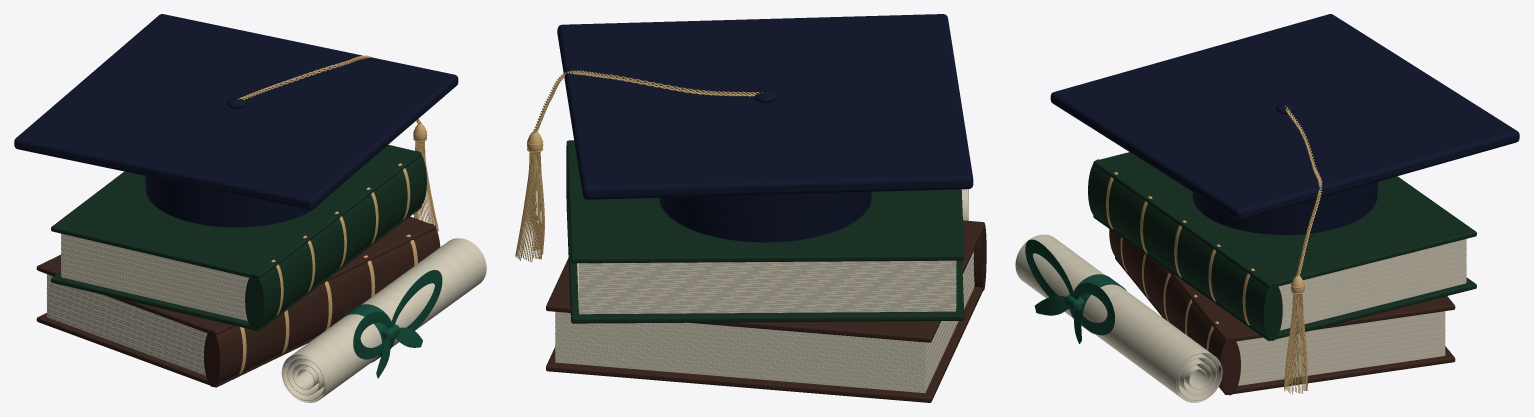
Rendered from studentLoan.glb.
The picture shows the model from 3 angles, left to right: view 1: azimuth 30°, elevation 25°; view 2: azimuth 150°, elevation 25°; view 3: azimuth 270°, elevation 25°; orthographic projection. The views are drawn at different scales.
Parts seen in each view (by area): view 1: SL-Cap-Board, SL-Book-Upper-Top-Cover, SL-Book-Lower-Spine, SL-Book-Upper-Spine, SL-Diploma-Tube, SL-Book-Upper-Pages, SL-Book-Lower-Pages, SL-Cap-Crown, SL-Book-Lower-Top-Cover, SL-Book-Upper-Bottom-Cover, SL-Book-Lower-Bottom-Cover, SL-Diploma-Coil (+3 smaller); view 2: SL-Cap-Board, SL-Book-Lower-Pages, SL-Book-Upper-Pages, SL-Book-Upper-Top-Cover, SL-Cap-Crown, SL-Book-Lower-Bottom-Cover, SL-Book-Upper-Bottom-Cover, SL-Book-Lower-Top-Cover, SL-Book-Lower-Spine, SL-Cord-Strand-0, SL-Cord-Strand-2, SL-Cord-Strand-1; view 3: SL-Cap-Board, SL-Book-Upper-Top-Cover, SL-Book-Upper-Spine, SL-Book-Lower-Pages, SL-Diploma-Tube, SL-Book-Upper-Pages, SL-Book-Lower-Spine, SL-Cap-Crown, SL-Book-Lower-Top-Cover, SL-Book-Upper-Bottom-Cover, SL-Book-Lower-Bottom-Cover, SL-Diploma-Coil (+4 smaller).
Boxes of the visible parts, x1,y1,x2,y2 form: SL-Cap-Board: [14, 14, 458, 209]; SL-Book-Upper-Top-Cover: [51, 144, 421, 278]; SL-Book-Lower-Spine: [204, 224, 440, 386]; SL-Book-Upper-Spine: [245, 151, 426, 330]; SL-Diploma-Tube: [281, 238, 486, 402]; SL-Book-Upper-Pages: [61, 233, 249, 320]; SL-Book-Lower-Pages: [46, 274, 207, 375]; SL-Cap-Crown: [145, 176, 319, 227]; SL-Book-Lower-Top-Cover: [36, 216, 435, 335]; SL-Book-Upper-Bottom-Cover: [51, 205, 421, 331]; SL-Book-Lower-Bottom-Cover: [36, 313, 318, 387]; SL-Diploma-Coil: [282, 354, 326, 400]; SL-Cap-Board: [557, 14, 973, 199]; SL-Book-Lower-Pages: [555, 251, 974, 393]; SL-Book-Upper-Pages: [577, 260, 956, 314]; SL-Book-Upper-Top-Cover: [566, 140, 964, 263]; SL-Cap-Crown: [660, 192, 871, 242]; SL-Book-Lower-Bottom-Cover: [546, 286, 983, 402]; SL-Book-Upper-Bottom-Cover: [566, 205, 964, 323]; SL-Book-Lower-Top-Cover: [546, 220, 984, 342]; SL-Book-Lower-Spine: [973, 223, 986, 290]; SL-Cord-Strand-0: [534, 70, 759, 132]; SL-Cord-Strand-2: [533, 70, 756, 130]; SL-Cord-Strand-1: [533, 70, 762, 132]; SL-Cap-Board: [1050, 14, 1519, 220]; SL-Book-Upper-Top-Cover: [1093, 152, 1476, 287]; SL-Book-Upper-Spine: [1088, 159, 1282, 340]; SL-Book-Lower-Pages: [1236, 311, 1445, 385]; SL-Diploma-Tube: [1015, 234, 1222, 402]; SL-Book-Upper-Pages: [1278, 239, 1466, 330]; SL-Book-Lower-Spine: [1109, 229, 1240, 395]; SL-Cap-Crown: [1193, 182, 1377, 234]; SL-Book-Lower-Top-Cover: [1166, 269, 1455, 341]; SL-Book-Upper-Bottom-Cover: [1093, 215, 1476, 340]; SL-Book-Lower-Bottom-Cover: [1115, 256, 1455, 394]; SL-Diploma-Coil: [1176, 353, 1221, 400].
Bounding box in the file's own units: 3.03 × 1.45 × 3.2.
Materials: 6 (5 with a texture image).
